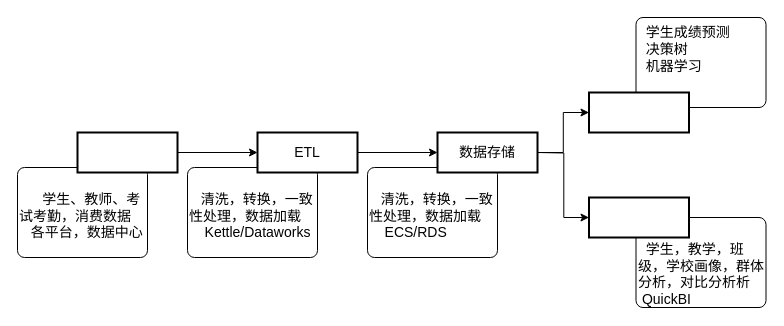
Some shapes in this 784 by 326 pixel diagram are drawn without their labels. Each missing label, with the box of its shape:
可视化分析: (588, 196, 690, 238)
数据挖掘: (588, 91, 690, 133)
数据获取: (76, 131, 178, 173)
